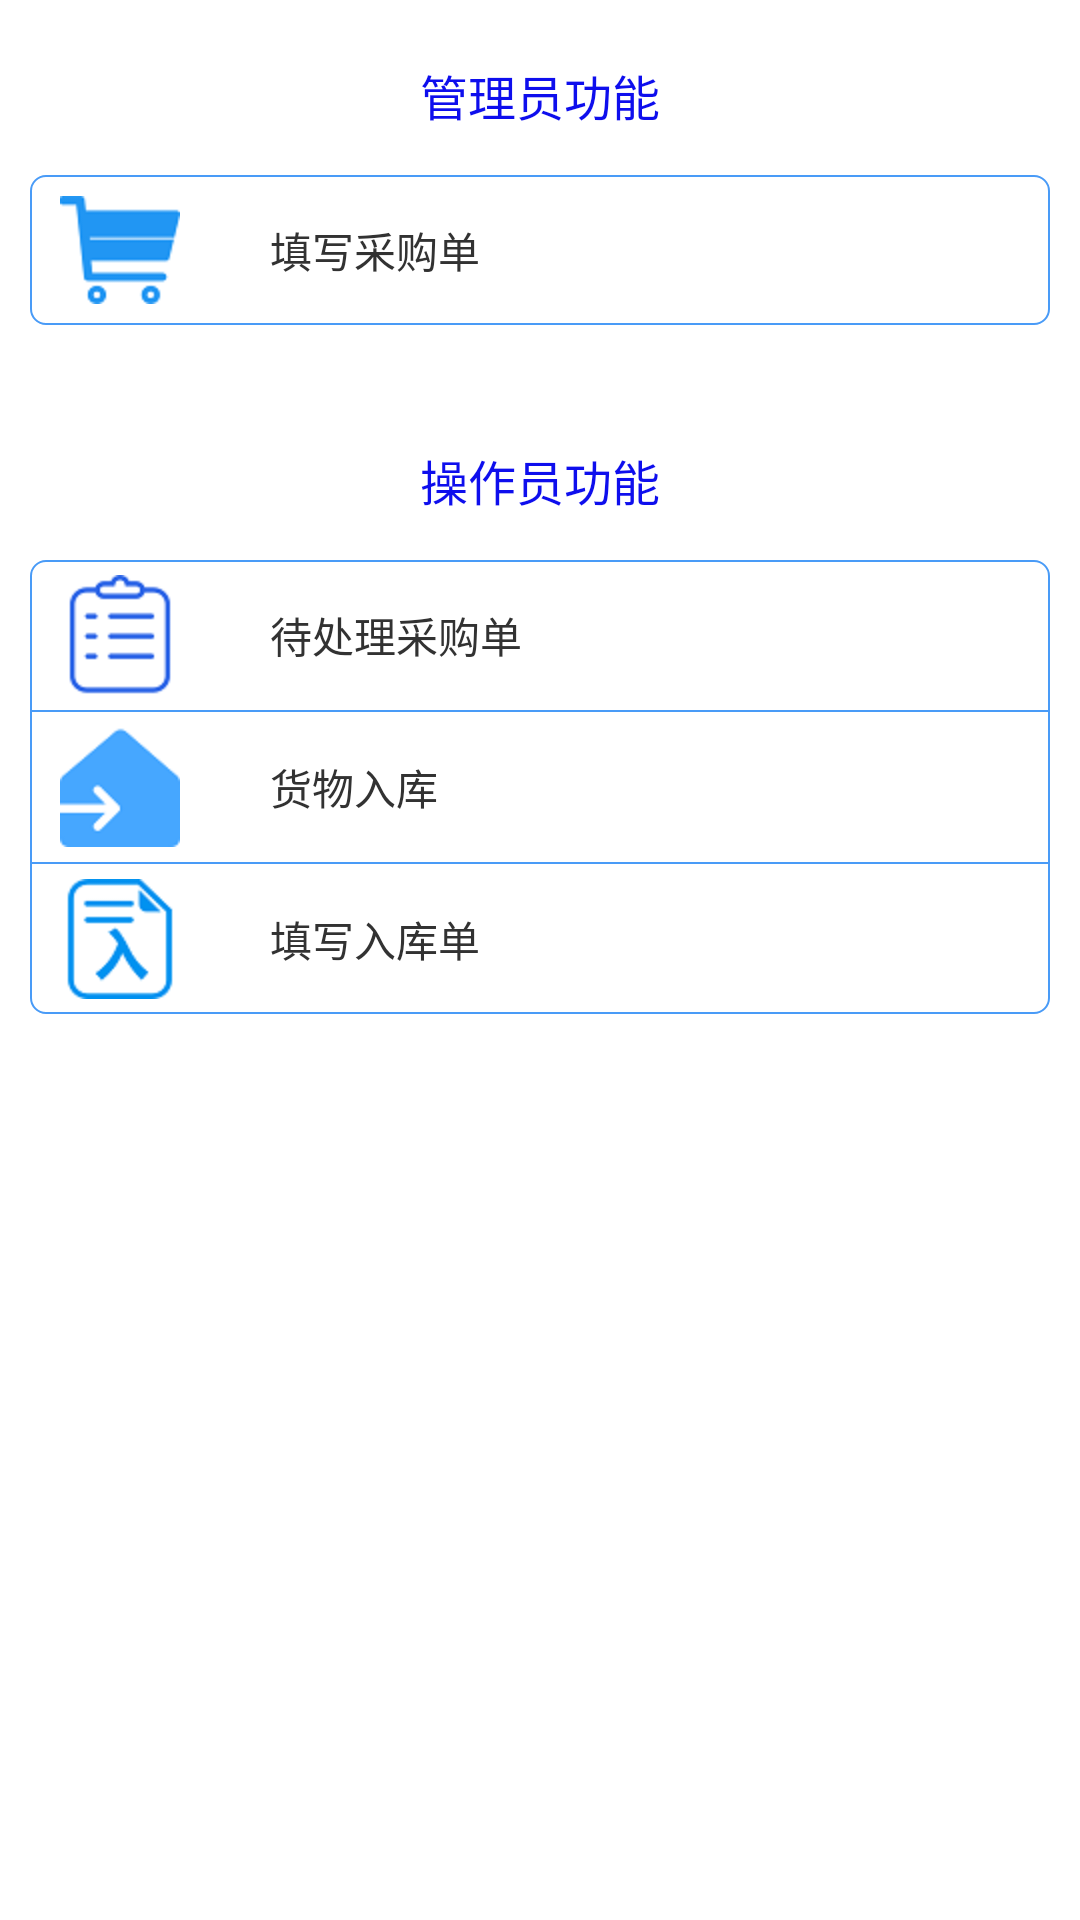

Icon click points for this 1080px×1920px phone screenshot, format [x,y]:
inbound order: [120,939]
item inbound: [120,787]
pending purchase order: [120,634]
purchase order: [120,250]
